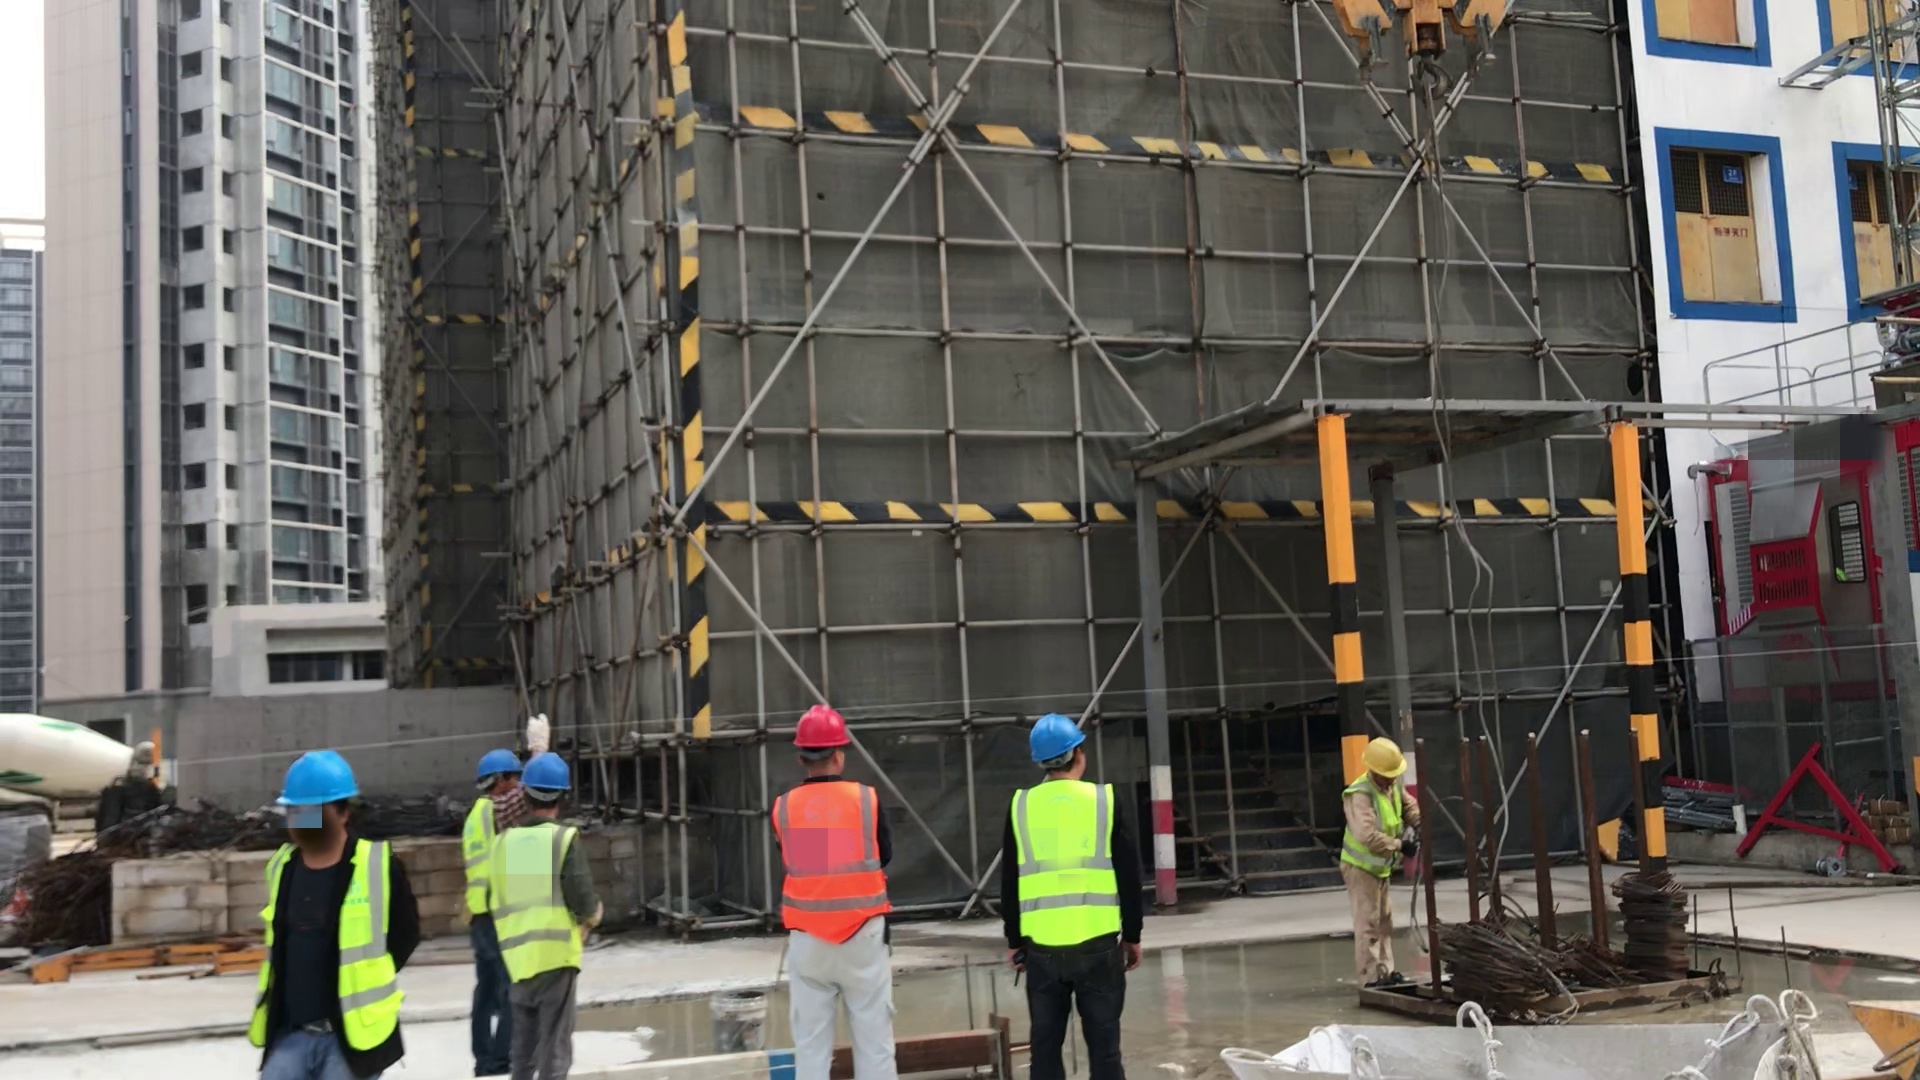helmet: (277, 751, 360, 805), (1028, 716, 1086, 758), (793, 707, 851, 747), (522, 753, 570, 792), (1363, 738, 1407, 779), (478, 750, 522, 778)
hook: (1338, 1, 1512, 101)
hopper: (1228, 1008, 1809, 1080)
person: (250, 750, 415, 1080), (1006, 719, 1128, 1080), (778, 707, 891, 1080), (497, 760, 592, 1080), (466, 747, 525, 1077), (1342, 739, 1415, 987)
vest: (252, 842, 401, 1056), (774, 772, 889, 935), (1008, 784, 1120, 949), (493, 830, 585, 977), (1343, 784, 1405, 879), (464, 792, 495, 916)
